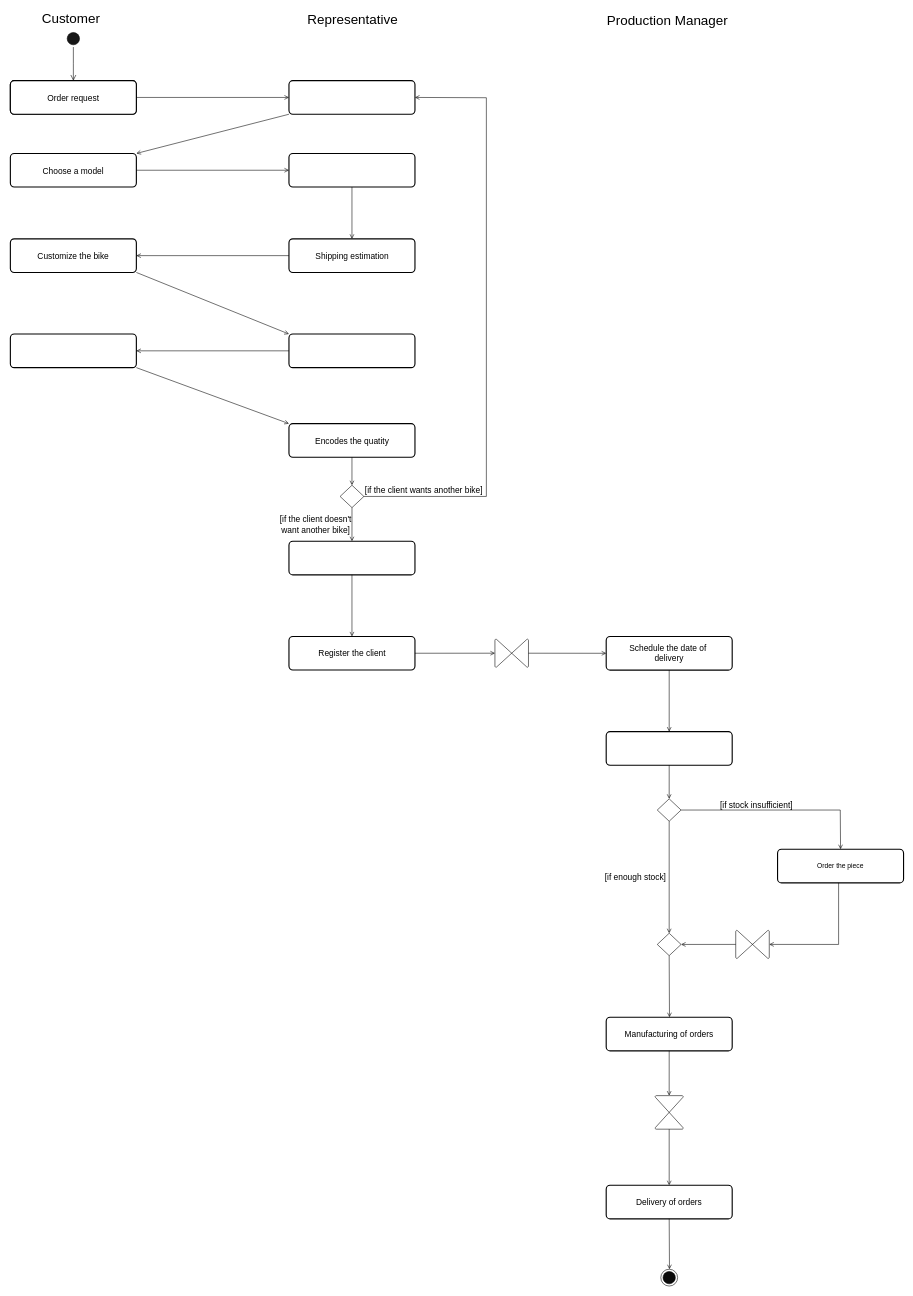
The diagram is 913 pixels wide and 1296 high, and some of its shapes have lost their labels. The centre of each missing label's shape, as x and y in pixels:
"Check the stock" belongs at (668,748).
"Choose the quantity of bike" belongs at (73,350).
"Create the order" belongs at (351,557).
"Encodes the caracteristics" belongs at (351,350).
"Encodes the model" belongs at (351,170).
"Show catalog" belongs at (351,97).
